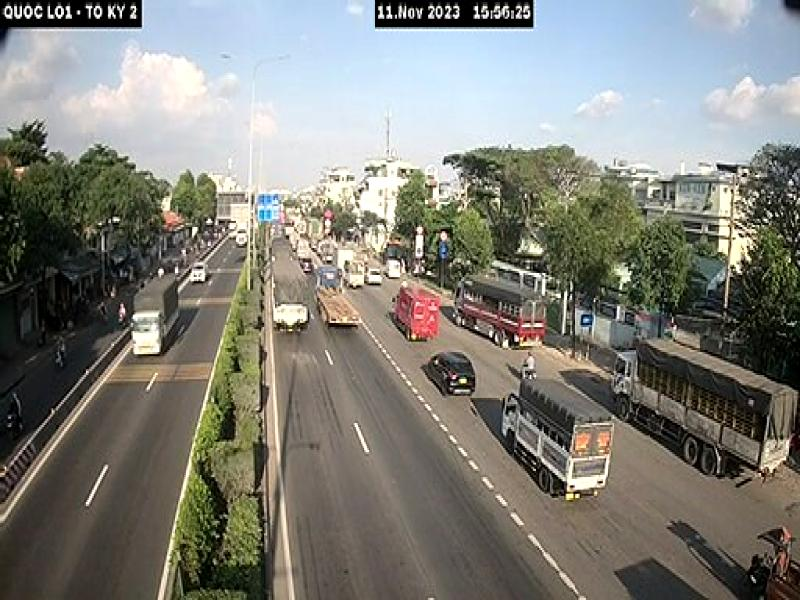truck: (615, 339, 800, 479), (500, 376, 614, 498), (452, 278, 549, 353), (131, 272, 184, 356), (269, 236, 311, 334), (390, 278, 440, 342), (312, 265, 359, 327)
